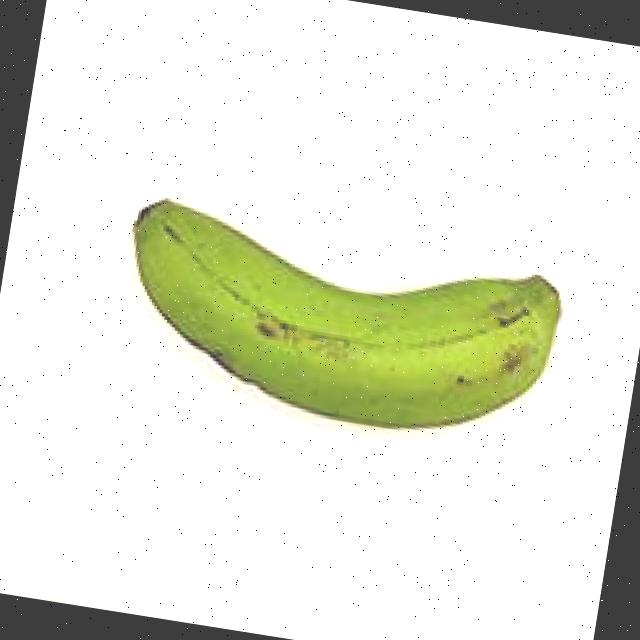Raw: (72, 117, 613, 496)
